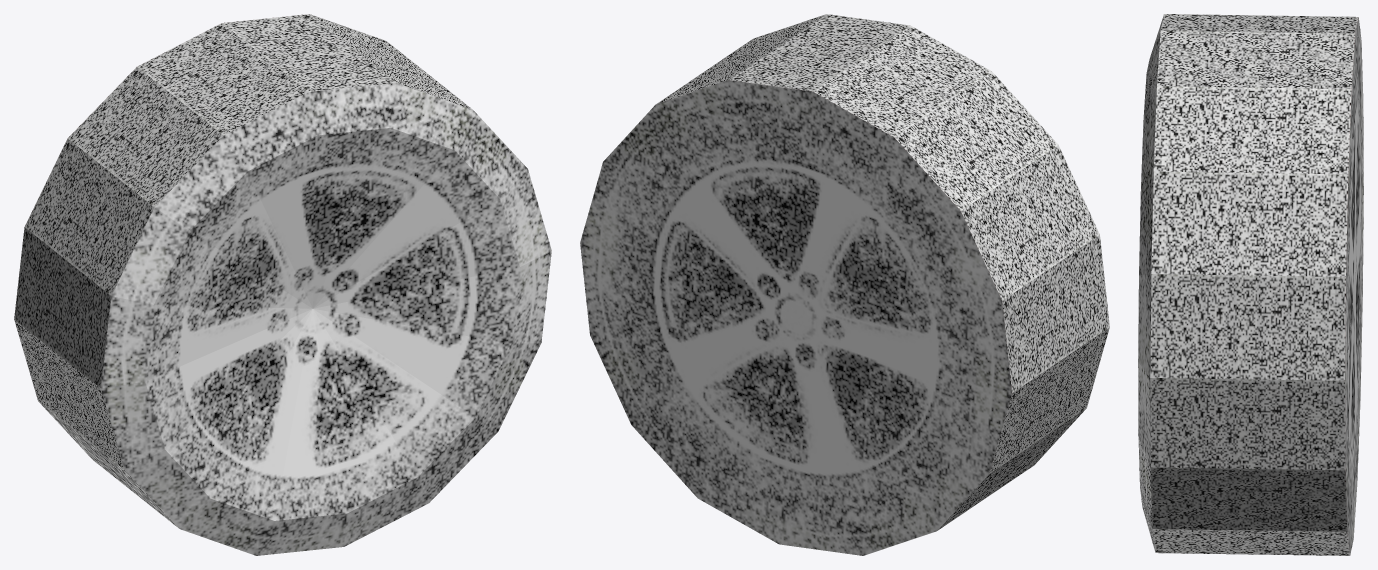
Rendered from vehicletirehorizontal_wtf.obj.
3 renders of one model, left to right at view 1: azimuth 30°, elevation 25°; view 2: azimuth 150°, elevation 25°; view 3: azimuth 270°, elevation 25°, orthographic. The views are drawn at different scales.
Visible parts, largest first — view 1: group1; view 2: group1; view 3: group1.
Boxes of the visible parts, box(x1,y1,x2,y2) form: group1: box(14, 14, 551, 555); group1: box(580, 14, 1109, 555); group1: box(1138, 14, 1363, 555).
Bounding box in the file's own units: 660 × 652 × 274.
